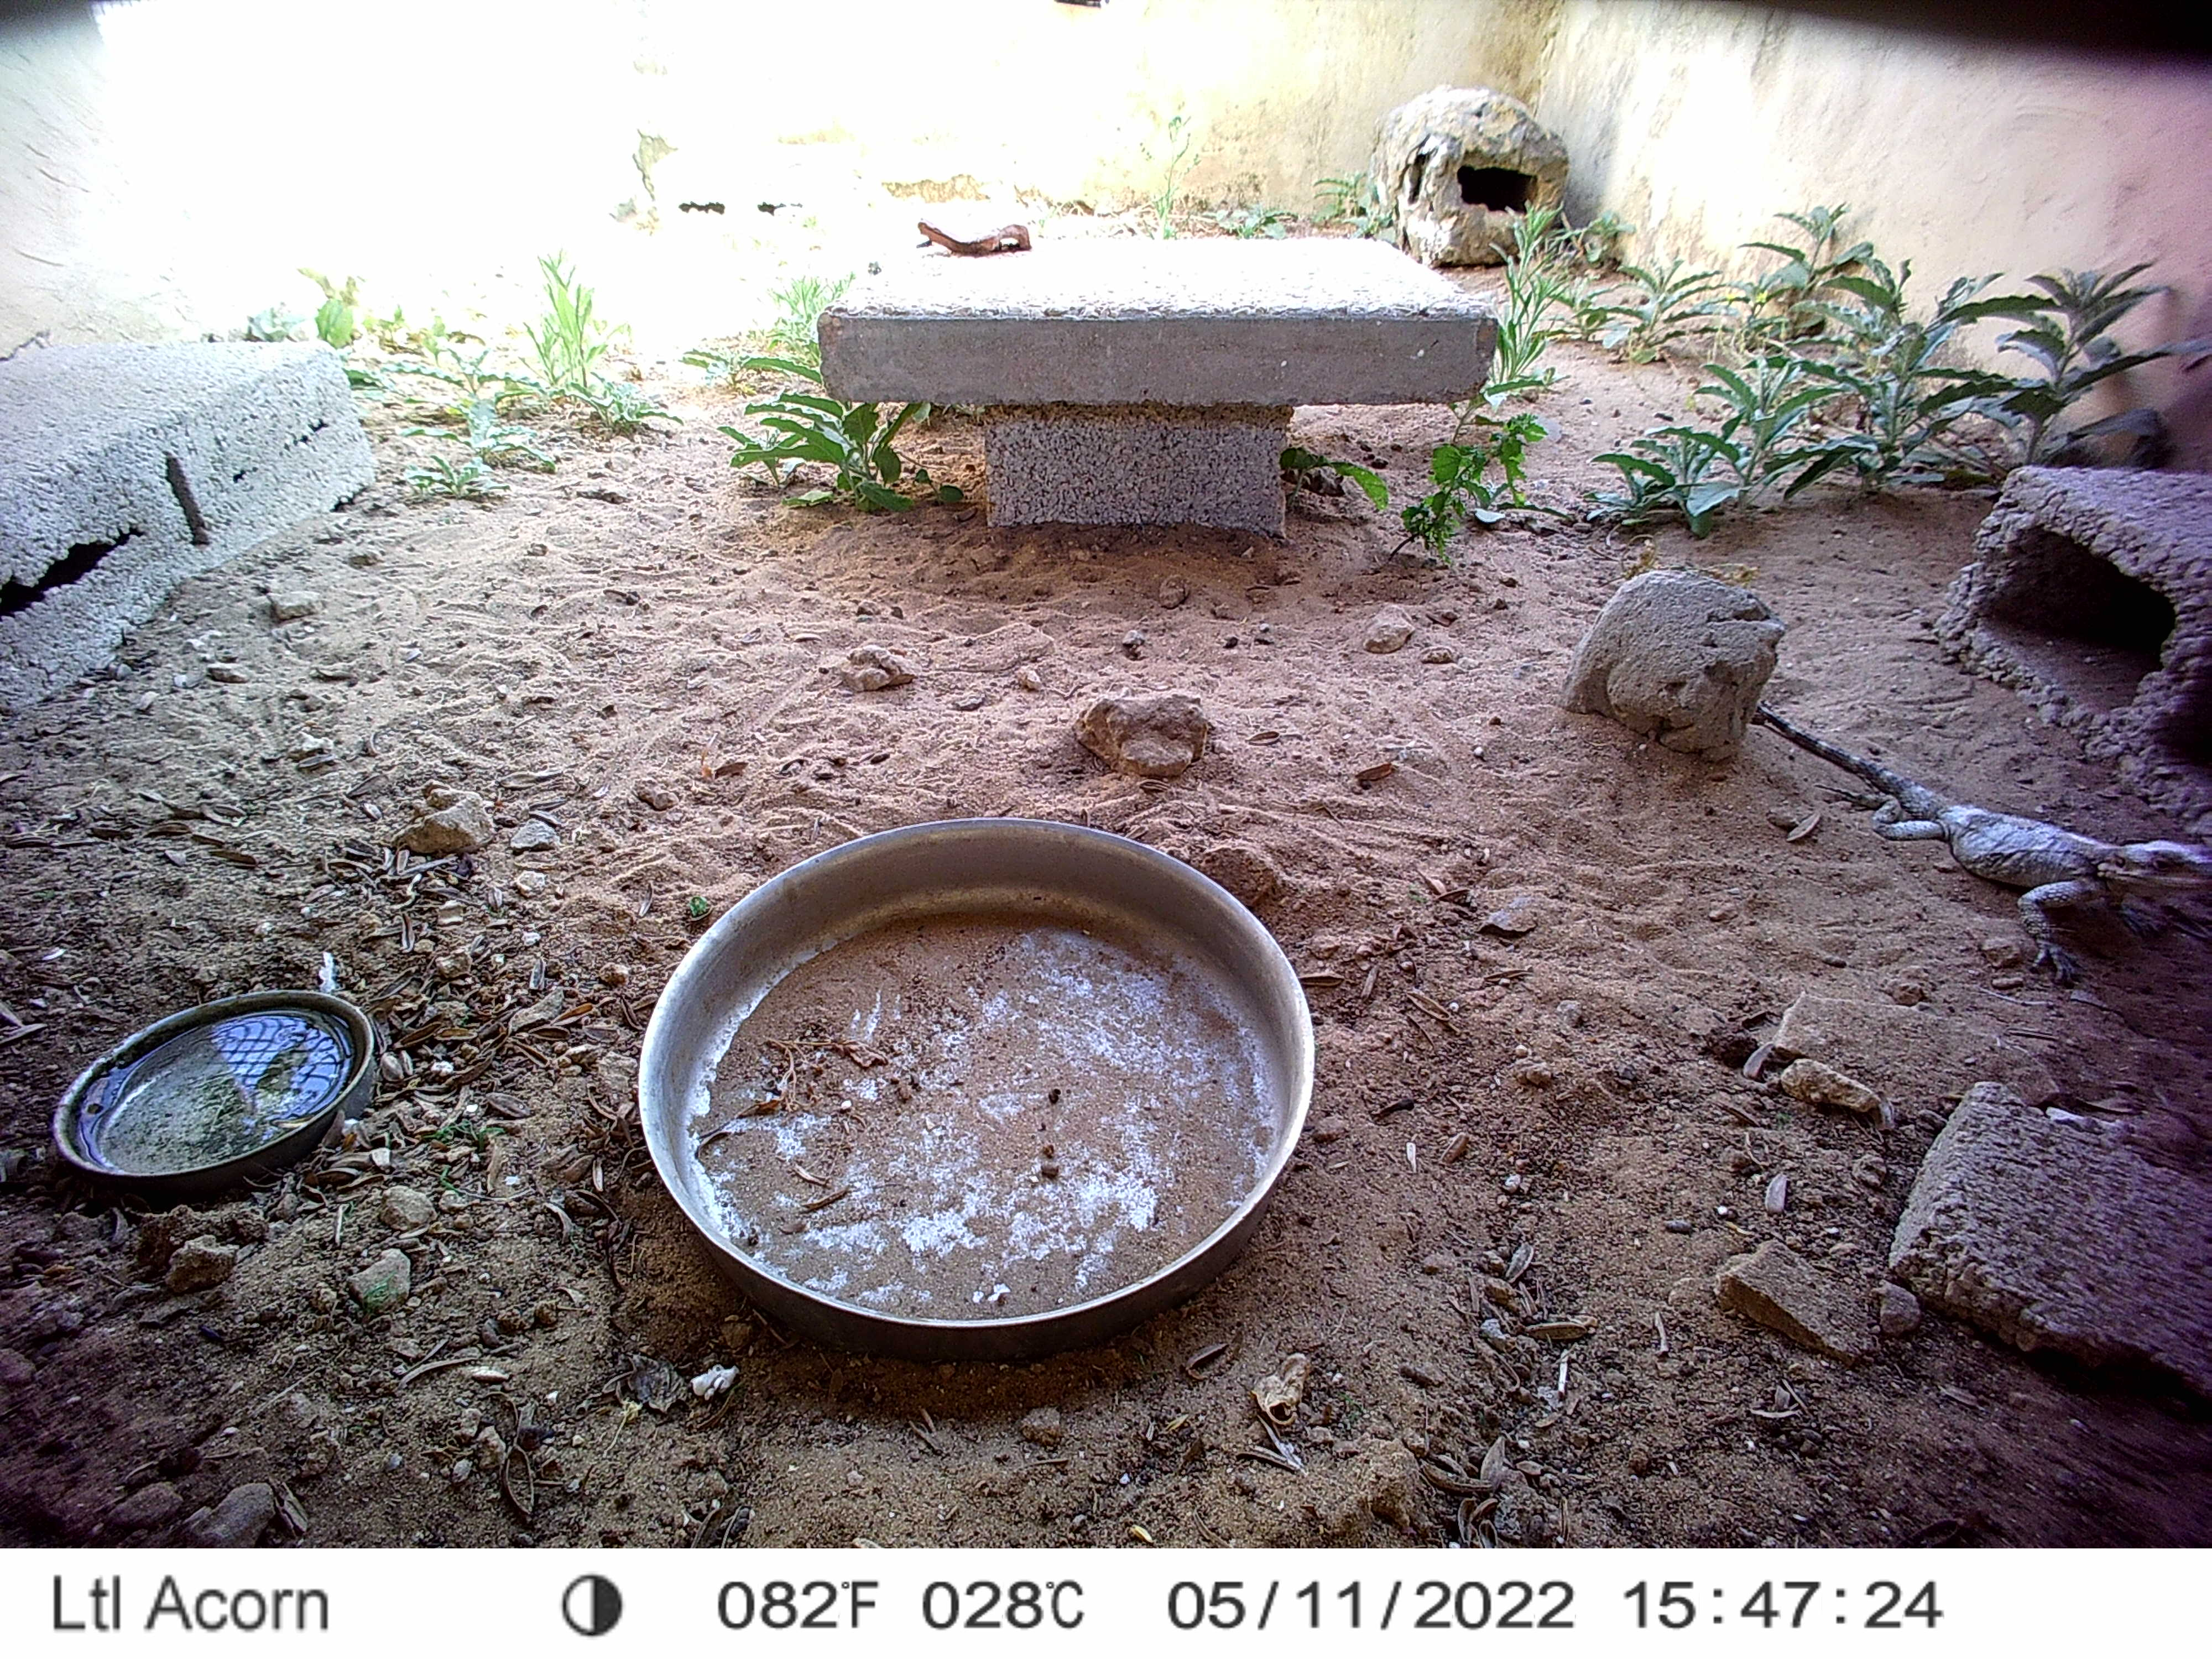lizard: (1749, 688, 2210, 993)
